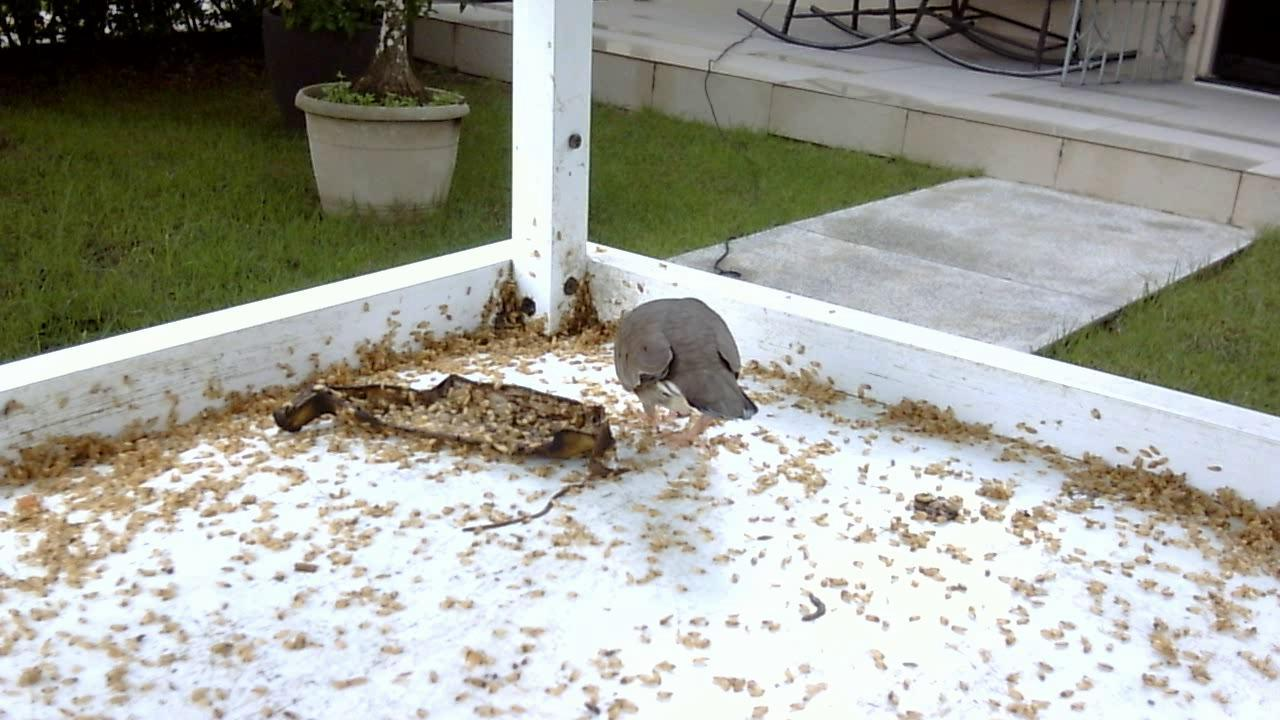rolinha: (605, 293, 764, 439)
